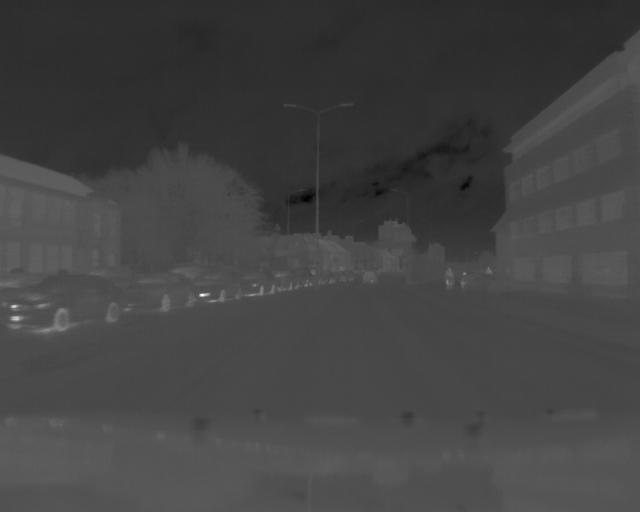car: (1, 271, 124, 337), (128, 265, 200, 315), (201, 267, 243, 306), (244, 266, 275, 298)
person: (440, 261, 458, 300)
